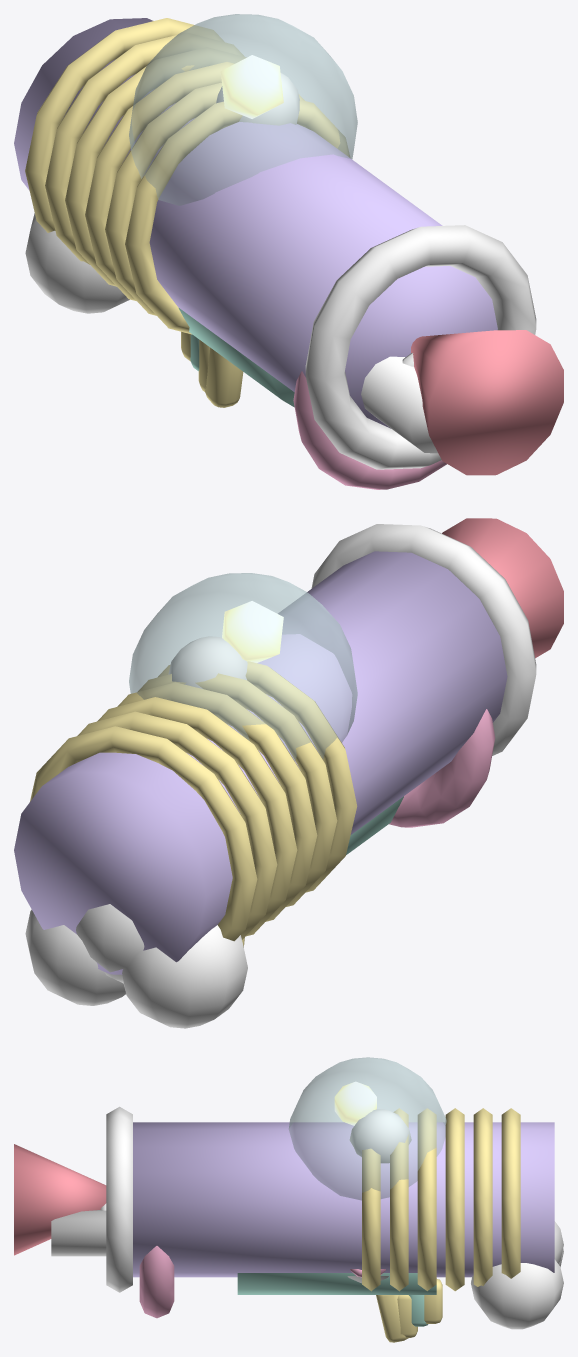
The model's file is weapons.glb.
3 views of the same model, one above another, from view 1: azimuth 30°, elevation 25°; view 2: azimuth 150°, elevation 25°; view 3: azimuth 270°, elevation 25° (orthographic). The views are drawn at different scales.
Visible parts, largest first — view 1: RK_Tube, BL_Tank, RK_Ring, RK_Nose, RK_Spring5, RK_Spring1, RK_Spring0, RK_Spring2, RK_Spring3, RK_Spring4, SG_Cloud0, SG_BarrelL (+5 smaller); view 2: RK_Tube, BL_Tank, RK_Ring, RK_Spring0, SG_Cloud0, RK_Nose, RK_Spring2, RK_Spring3, RK_Spring1, RK_Spring4, RK_Spring5, BL_Wand (+5 smaller); view 3: RK_Tube, BL_Tank, RK_Nose, RK_Ring, SG_Cloud2, RK_Spring2, RK_Spring3, BL_Body, RK_Spring1, RK_Spring0, RK_Spring4, RK_Spring5 (+8 smaller).
Part boxes in pixels (x1,y1,x2,y2): RK_Tube: [14, 18, 497, 428]; BL_Tank: [129, 14, 357, 205]; RK_Ring: [305, 225, 536, 469]; RK_Nose: [411, 330, 563, 475]; RK_Spring5: [125, 99, 349, 334]; RK_Spring1: [45, 33, 244, 264]; RK_Spring0: [25, 18, 223, 232]; RK_Spring2: [65, 47, 246, 286]; RK_Spring3: [85, 62, 234, 301]; RK_Spring4: [105, 82, 304, 315]; SG_Cloud0: [25, 213, 129, 313]; SG_BarrelL: [361, 356, 437, 453]; RK_Tube: [14, 551, 507, 974]; BL_Tank: [129, 573, 357, 761]; RK_Ring: [311, 524, 536, 755]; RK_Spring0: [30, 726, 257, 941]; SG_Cloud0: [122, 925, 247, 1028]; RK_Nose: [442, 518, 563, 658]; RK_Spring2: [97, 697, 297, 936]; RK_Spring3: [117, 682, 317, 921]; RK_Spring1: [77, 711, 277, 939]; RK_Spring4: [138, 673, 337, 907]; RK_Spring5: [158, 661, 357, 892]; BL_Wand: [389, 709, 495, 827]; RK_Tube: [133, 1122, 554, 1277]; BL_Tank: [288, 1057, 446, 1200]; RK_Nose: [14, 1144, 106, 1255]; RK_Ring: [106, 1106, 132, 1292]; SG_Cloud2: [471, 1259, 563, 1329]; RK_Spring2: [445, 1108, 464, 1291]; RK_Spring3: [417, 1108, 436, 1290]; BL_Body: [237, 1273, 436, 1294]; RK_Spring1: [473, 1108, 492, 1286]; RK_Spring0: [501, 1108, 520, 1278]; RK_Spring4: [390, 1108, 408, 1291]; RK_Spring5: [362, 1148, 380, 1291].
Bounding box in the file's own units: 0.302 × 0.4906 × 0.885.
